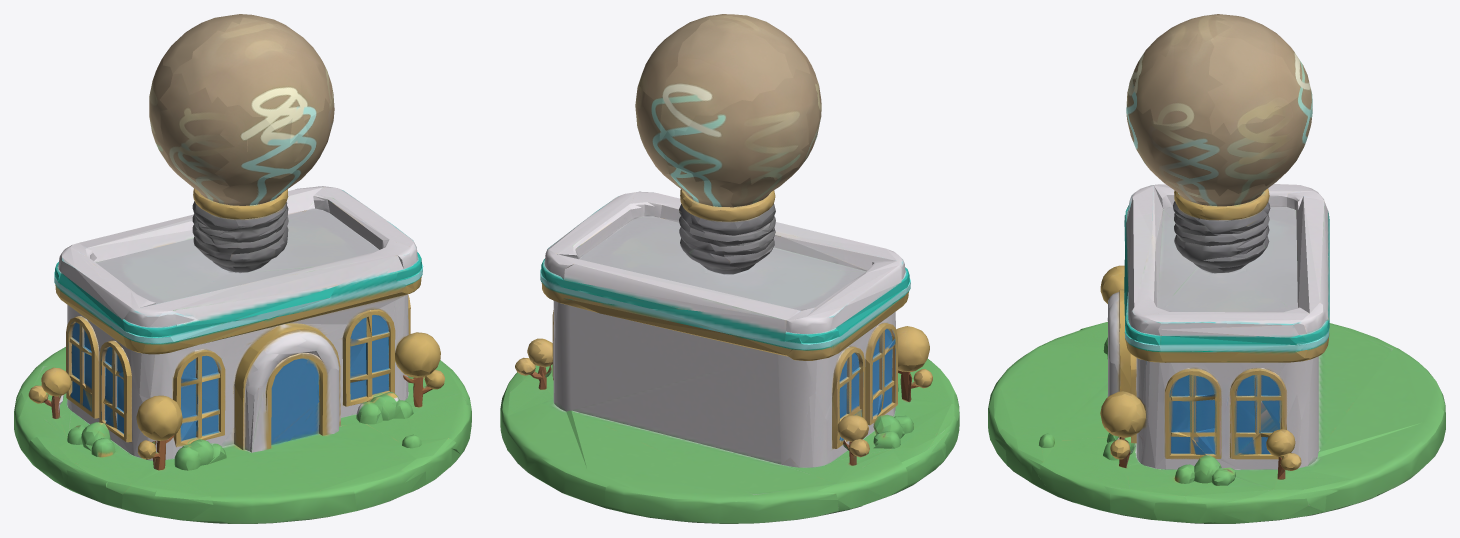
The model's file is academy.glb.
3 renders of one model, left to right at view 1: azimuth 30°, elevation 25°; view 2: azimuth 150°, elevation 25°; view 3: azimuth 270°, elevation 25°, orthographic.
Visible parts, largest first — view 1: Mesh_0; view 2: Mesh_0; view 3: Mesh_0.
Part boxes in pixels (x1,y1,x2,y2): Mesh_0: (14,14,471,523); Mesh_0: (500,14,959,523); Mesh_0: (988,14,1445,523).
Bounding box in the file's own units: 1.9 × 1.86 × 1.9.
Materials: 1 (1 with a texture image).
